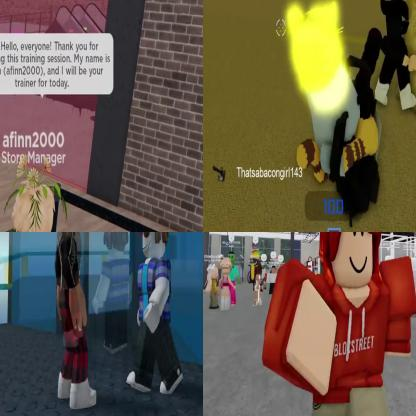Roblox-Avatar: (263, 233, 416, 416), (127, 233, 185, 396), (51, 233, 99, 412), (1, 153, 70, 232), (93, 233, 134, 356), (376, 1, 416, 111), (221, 258, 238, 312), (229, 251, 242, 307), (206, 264, 220, 310), (254, 263, 263, 308)
